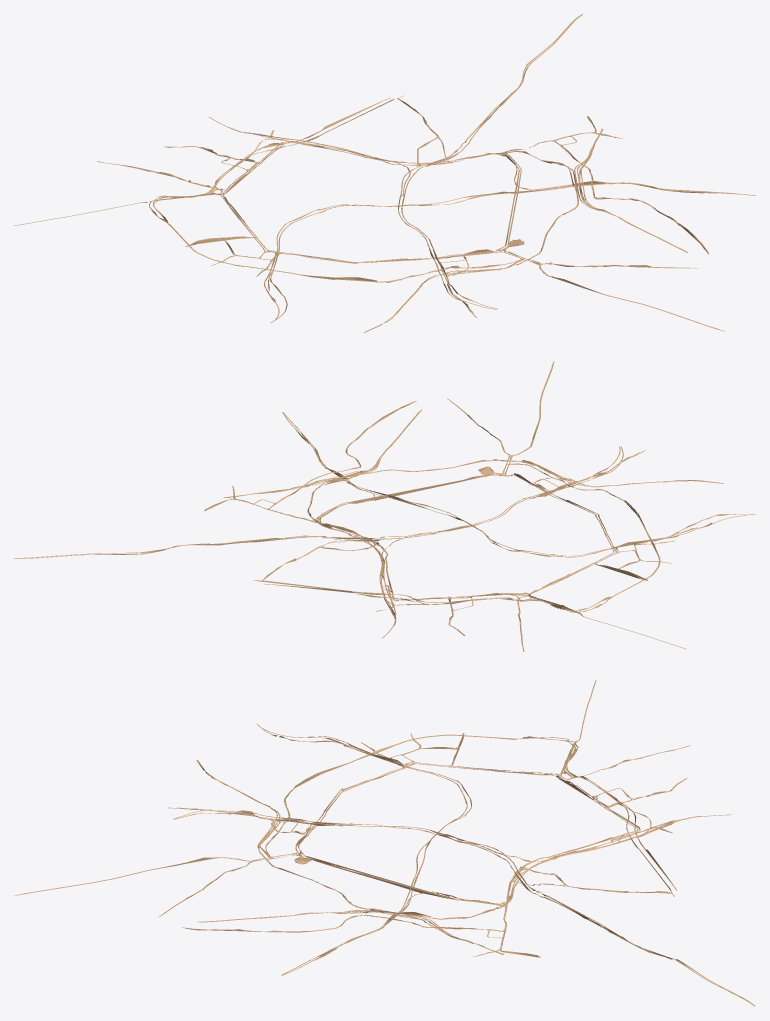
Rendered from rail.glb.
3 renders of one model, top to bottom at view 1: azimuth 30°, elevation 25°; view 2: azimuth 150°, elevation 25°; view 3: azimuth 270°, elevation 25°, orthographic. The views are drawn at different scales.
Visible parts, largest first — view 1: rail; view 2: rail; view 3: rail.
Part boxes in pixels (left/top/right/bottom): rail: left=14, top=14, right=755, bottom=332; rail: left=14, top=361, right=755, bottom=651; rail: left=14, top=680, right=755, bottom=1006.
Bounding box in the file's own units: 3973 × 54.8 × 3853.
